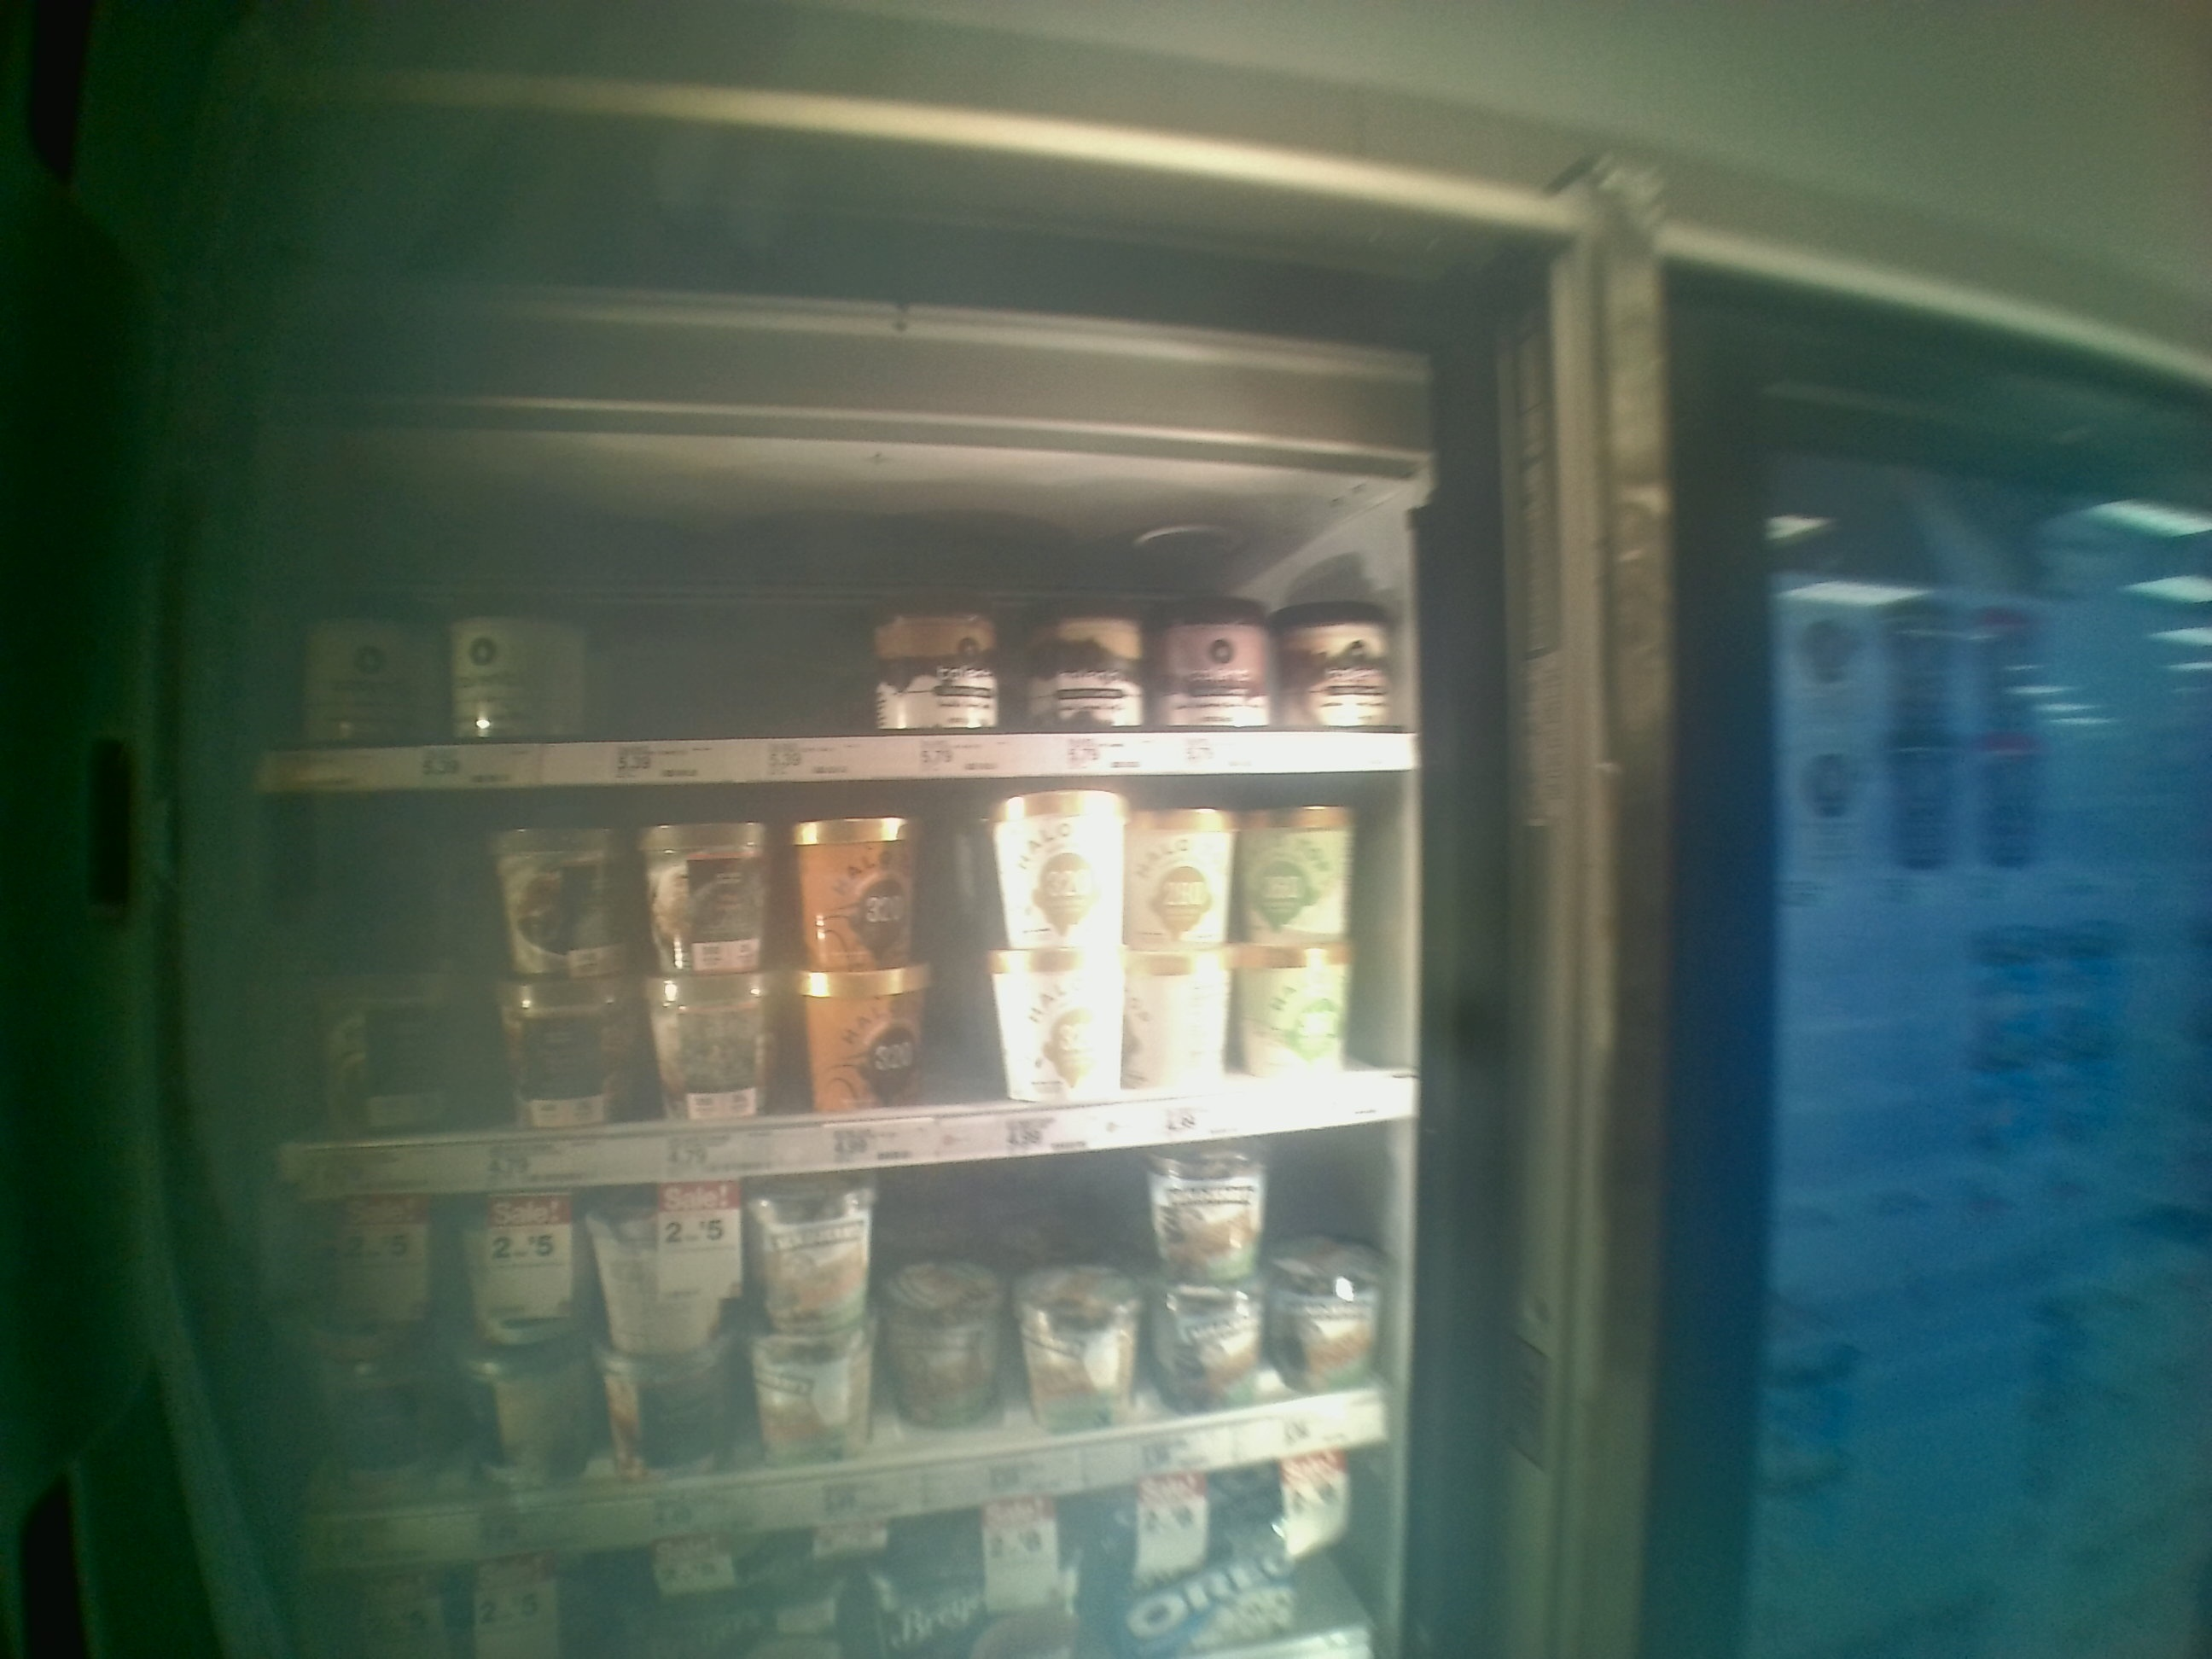shelf: (273, 1114, 1413, 1575), (258, 784, 1418, 1199), (265, 420, 1423, 782)
